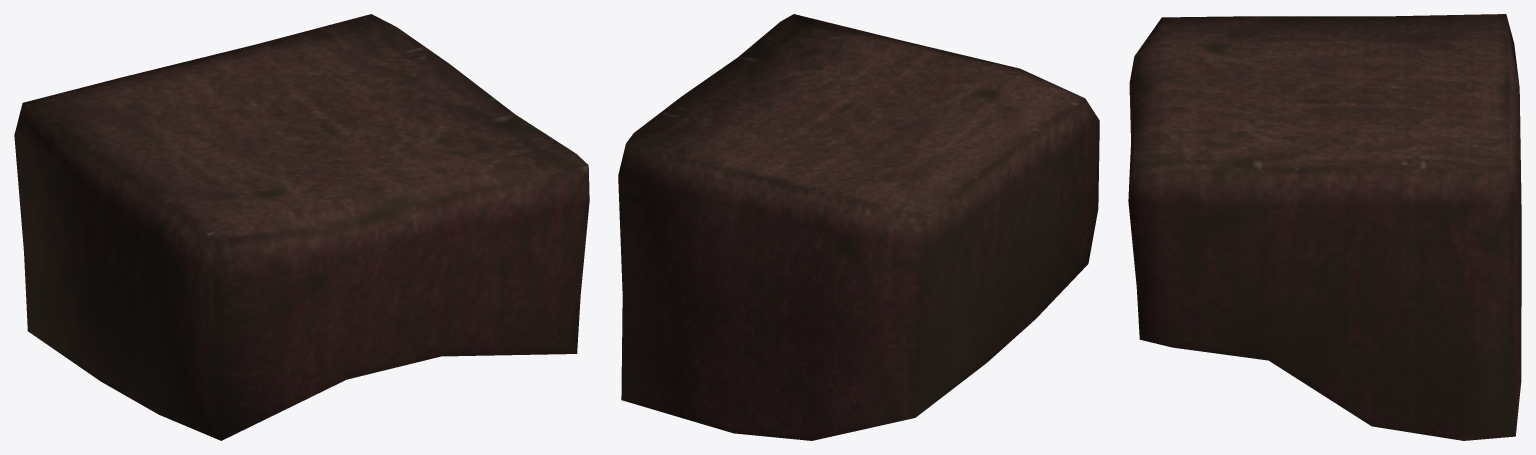
File: Large box cloth.fbx
3 views of the same model, side by side, from view 1: azimuth 30°, elevation 25°; view 2: azimuth 150°, elevation 25°; view 3: azimuth 270°, elevation 25° (orthographic). The views are drawn at different scales.
Visible parts, largest first — view 1: Plane.001; view 2: Plane.001; view 3: Plane.001.
Part boxes in pixels (<box>): Plane.001: <box>14,14,589,440</box>; Plane.001: <box>618,14,1099,440</box>; Plane.001: <box>1128,14,1521,440</box>.
Size of the model in its own units: 123 by 98.13 by 125.
